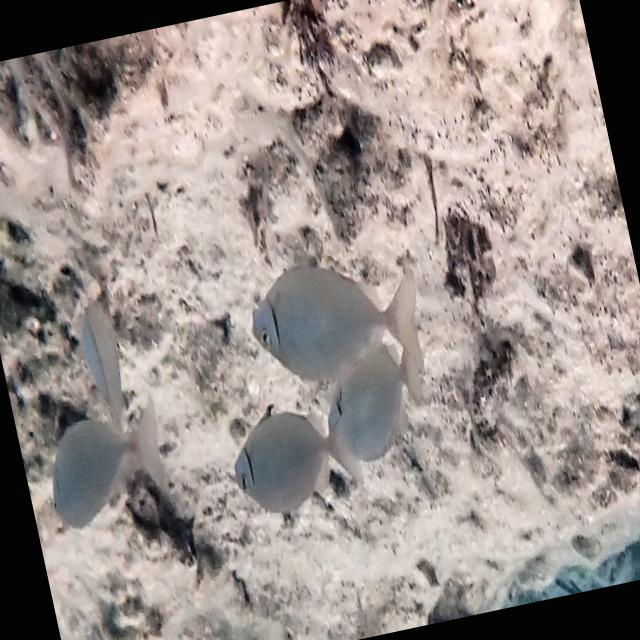Sokar Baligi: (232, 226, 438, 412), (208, 384, 378, 536)
